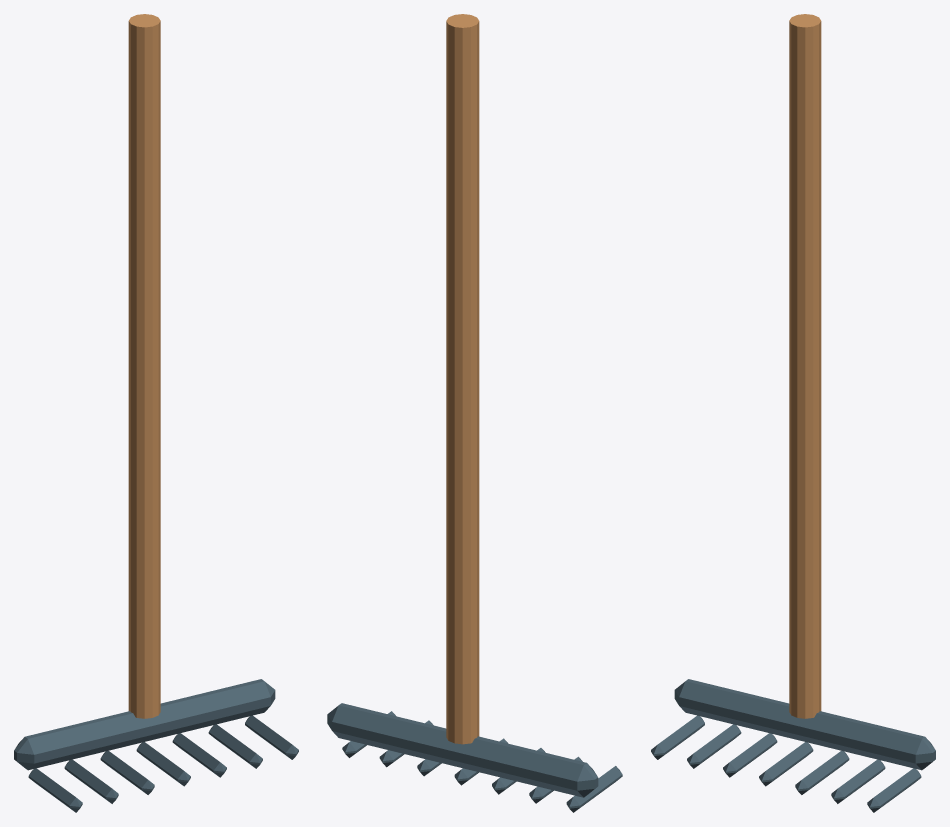
The model's file is market_14_Rake.glb.
3 renders of one model, left to right at view 1: azimuth 30°, elevation 25°; view 2: azimuth 150°, elevation 25°; view 3: azimuth 330°, elevation 25°, orthographic. The views are drawn at different scales.
Visible parts, largest first — view 1: 14_Rake; view 2: 14_Rake; view 3: 14_Rake.
Part boxes in pixels (box(x1,y1,x2,y2)): 14_Rake: box(14, 14, 298, 812); 14_Rake: box(327, 14, 622, 812); 14_Rake: box(651, 14, 935, 812).
Size of the model in its own units: 0.43 by 1.17 by 0.148.
